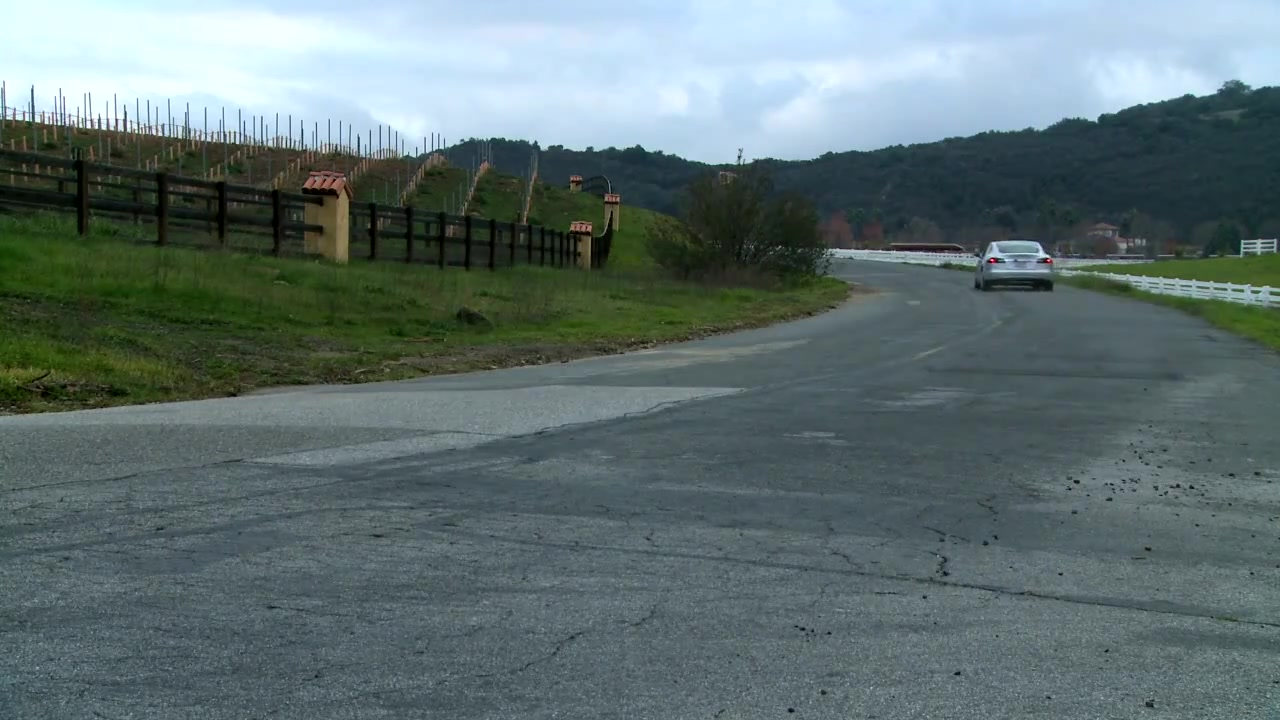car: (974, 238, 1059, 292)
